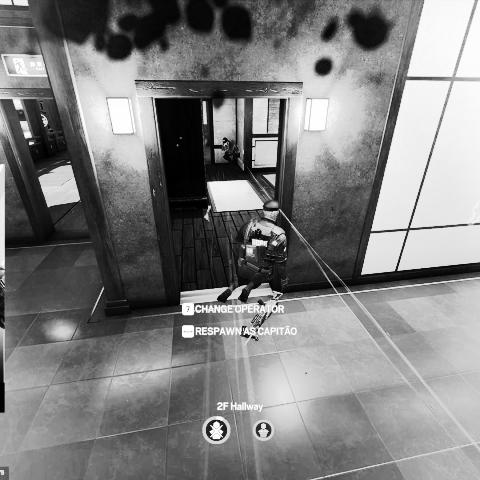Character: (215, 198, 289, 306), (220, 137, 241, 167)
Head: (262, 200, 280, 221), (222, 136, 228, 146)
